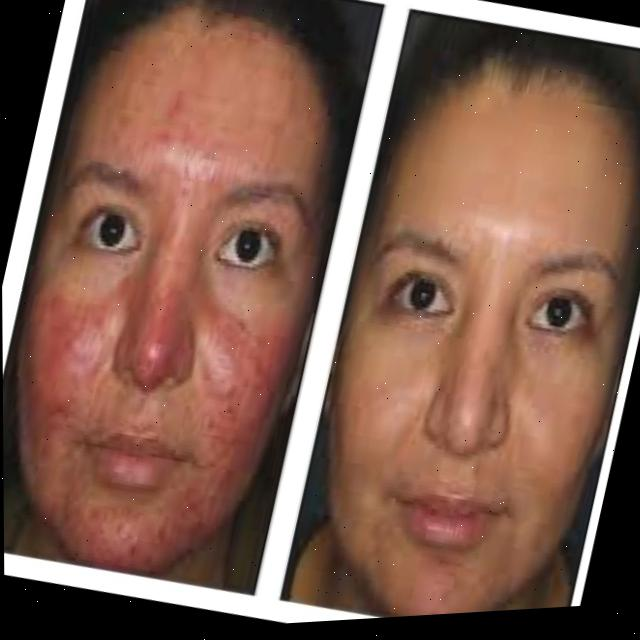Rosacea: (103, 15, 240, 188), (167, 297, 289, 489), (2, 278, 96, 469), (57, 491, 195, 582)
